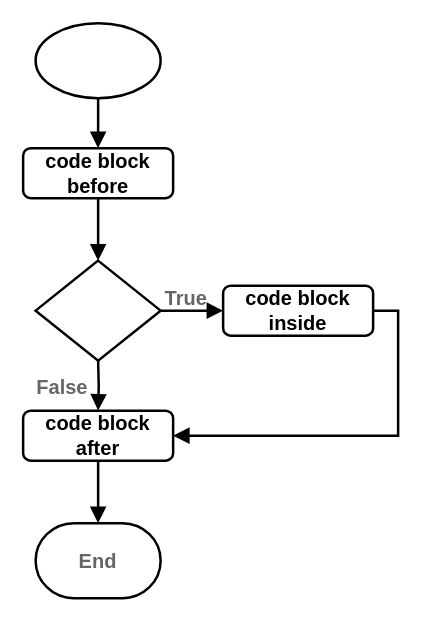
The diagram is 433 pixels wide and 620 high, and some of its shapes have lost their labels. The shapes that lost their labels are listed below. From the top down, each one's centre as x and y in pixels, then its label:
At pixel 97 60: "Start".
At pixel 97 310: "condition".
